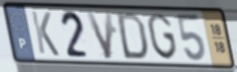2: (60, 8, 93, 61)
5: (175, 13, 208, 64)
D: (116, 11, 150, 62)
G: (146, 12, 180, 62)
K: (29, 9, 61, 58)
V: (83, 9, 114, 62)
